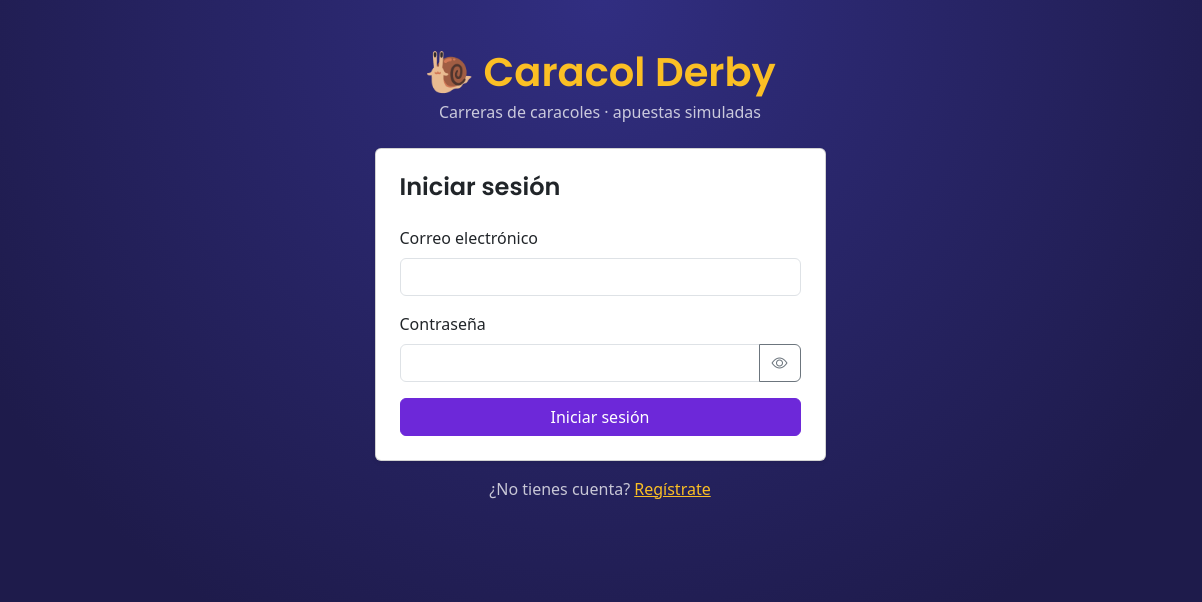
Test: navegación y sesión › un login con contraseña incorrecta muestra el error genérico
Type "ana@correo.com" into the field labelled "Correo electrónico".
click(600, 277); type("ana@correo.com")  # box left=400, top=258, right=800, bottom=296
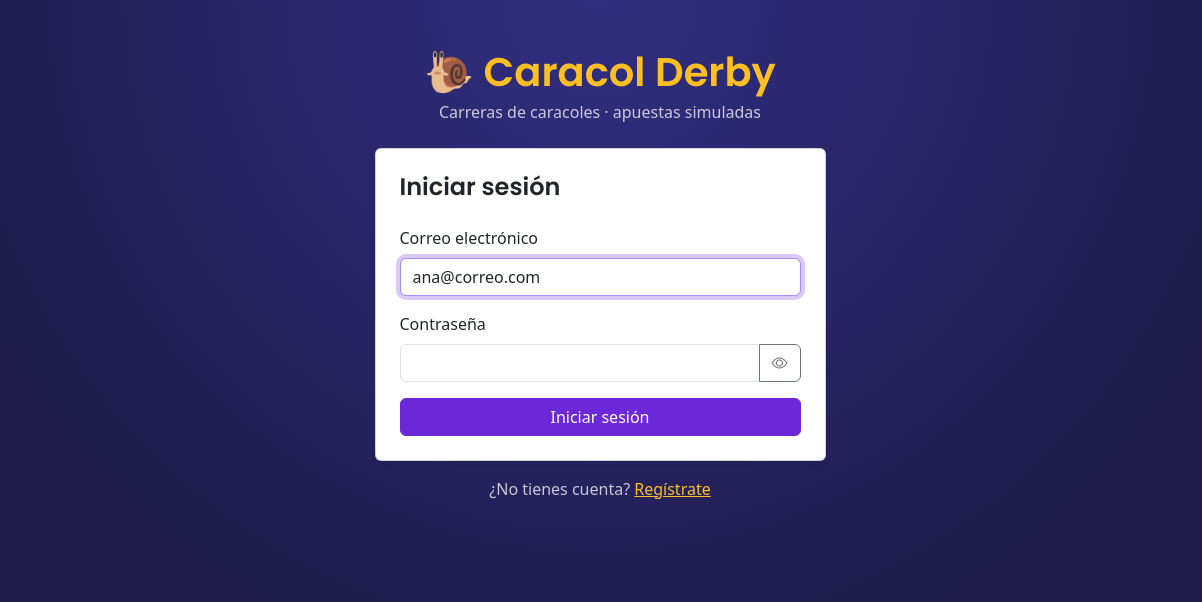
Type "OtraClave123" into the password field labelled "Contraseña".
click(580, 363); type("OtraClave123")  # box left=400, top=344, right=760, bottom=382
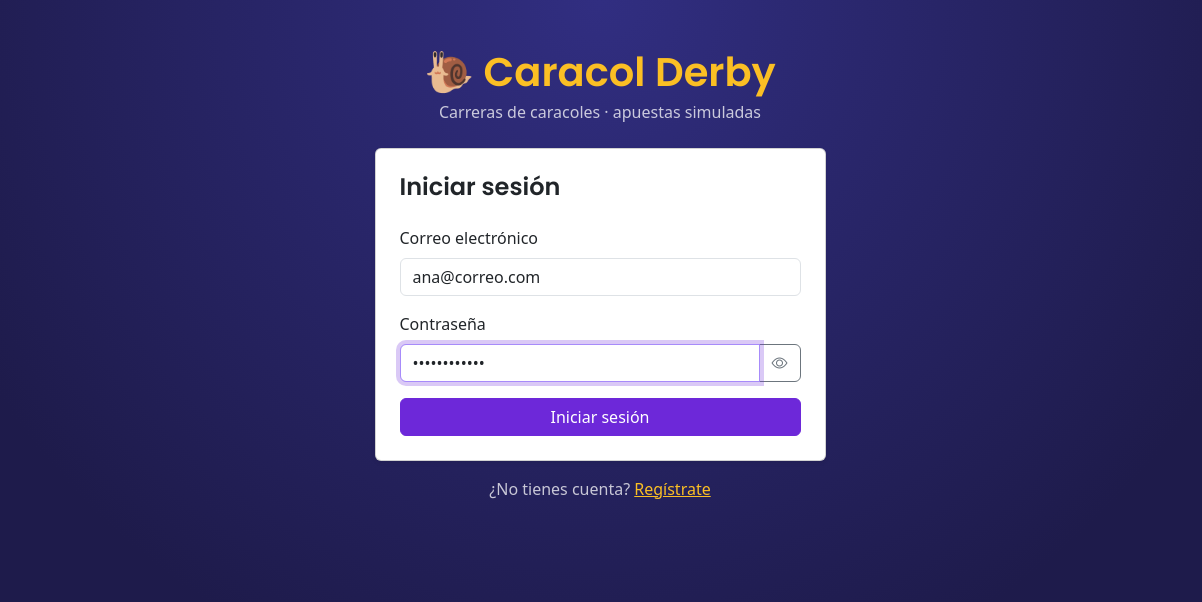
Click the button "Iniciar sesión".
click(600, 417)  # box left=400, top=398, right=800, bottom=436
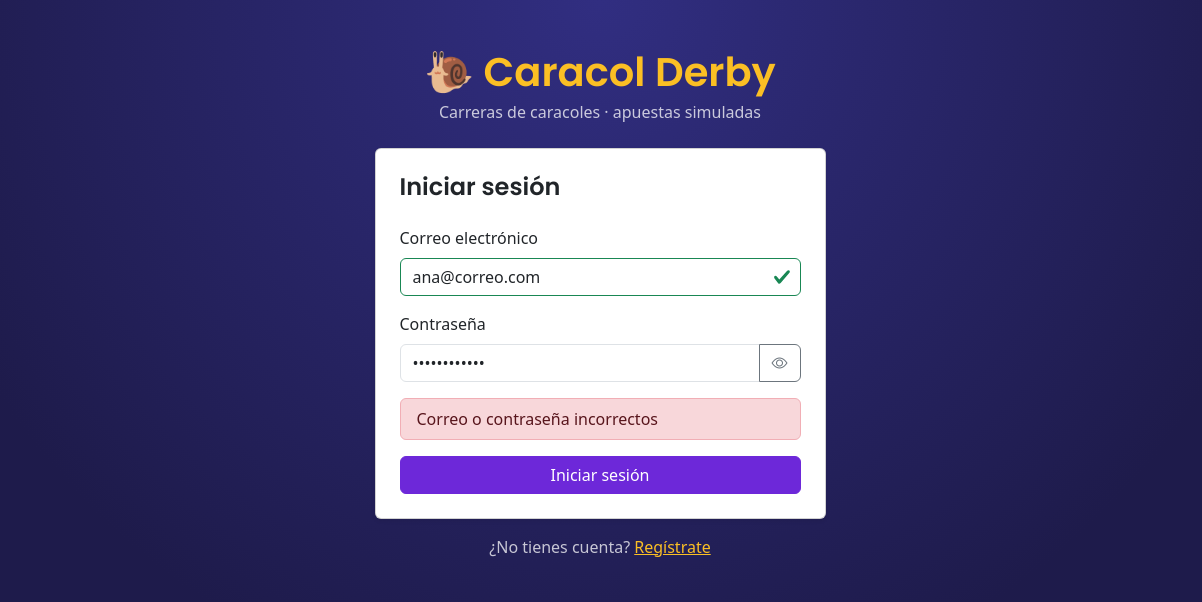
Now the message reads "Correo o contraseña incorrectos", box left=416, top=408, right=658, bottom=430
